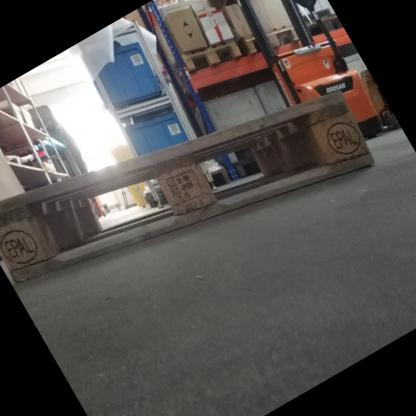BoxFace: (0, 85, 379, 287)
